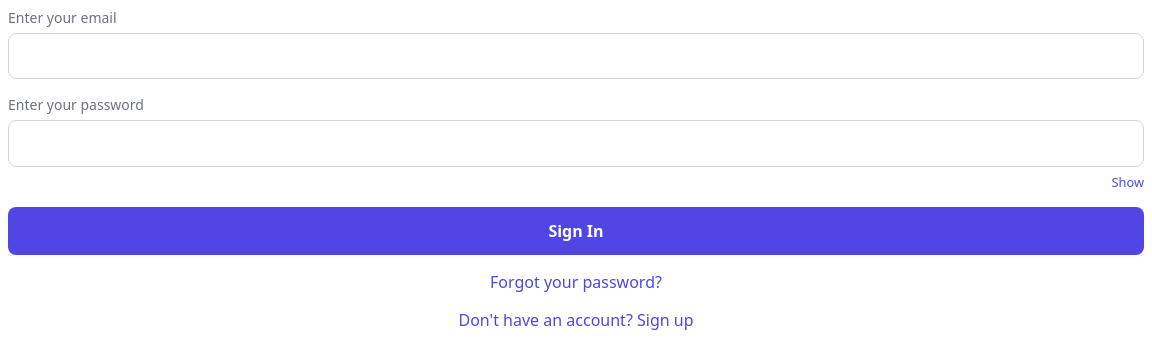
Scenario: AuthKitEmailComponent › toggles to sign-up
Click the button with class "ak-link" showing "Don't have an account? Sign up".
click(576, 320)  # box [8,309,1144,331]
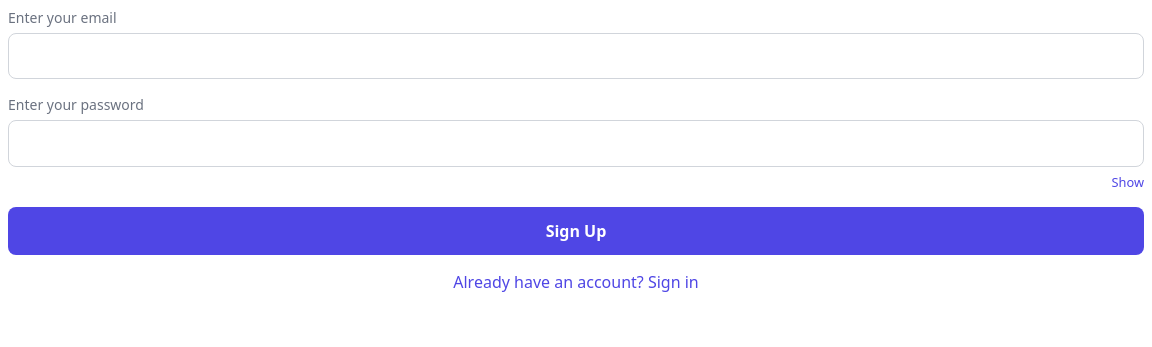
Expected: the submit button reads "Sign Up", [8,207,1144,255]
